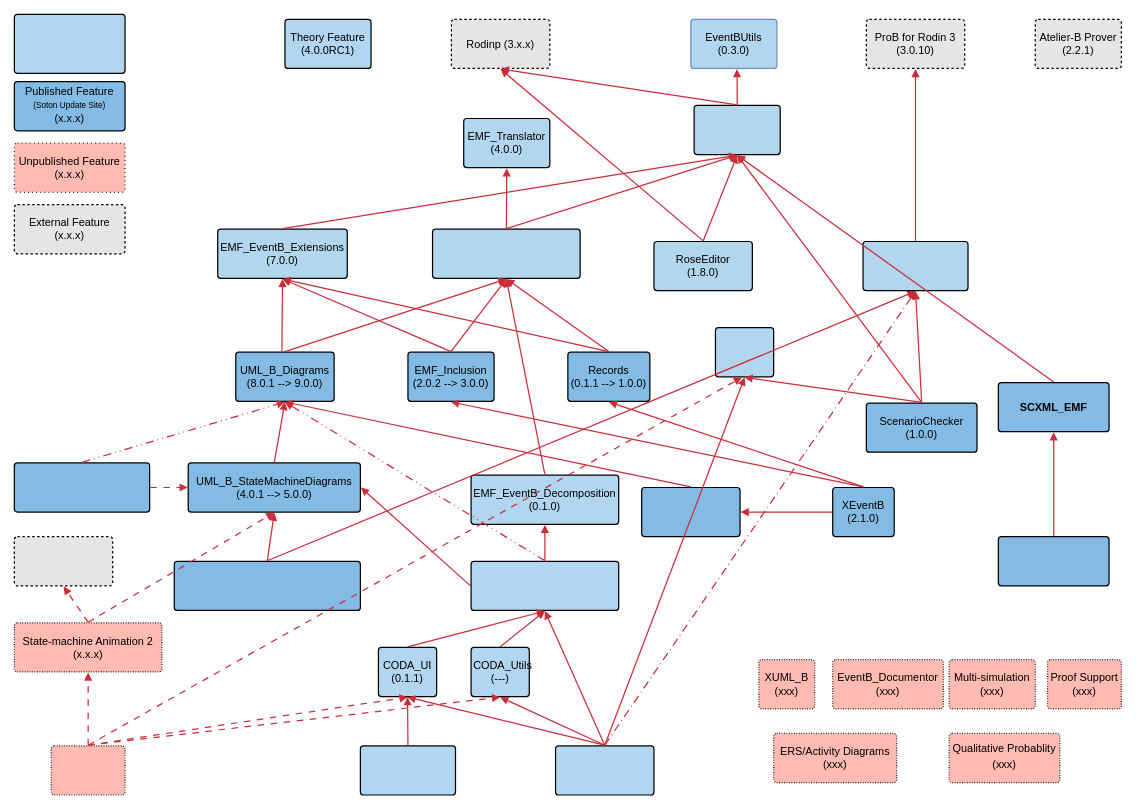
The diagram is 1137 pixels wide and 810 high, and some of its shapes have lost their labels. The centre of each missing label's shape, as x and y in pixels:
CODA_ComponentDiagrams (6.0.1): [544,585]
CODA_Simulator (3.0.1): [604,770]
CODA_VHDL (0.0.5): [407,770]
EMF_Containment (0.0.2): [690,512]
EMF_EventB (7.0.0): [736,129]
EventB_ProB_Support (0.1.0): [915,266]
EventB_Translator_Support (0.2.0): [506,253]
Oracle (1.2.1): [744,352]
ProB2 for Rodin 3 (x.x.x): [63,561]
Published Feature (Rodin Update Site) (x.x.x): [69,43]
SCXML_EVENTB: [1053,561]
Simulator 2 (x.x.x): [87,770]
UML_B_ClassDiagrams (3.0.0 --> 4.0.0): [81,487]
UML_B_StateMachineAnimation1 (3.0.0): [267,585]
